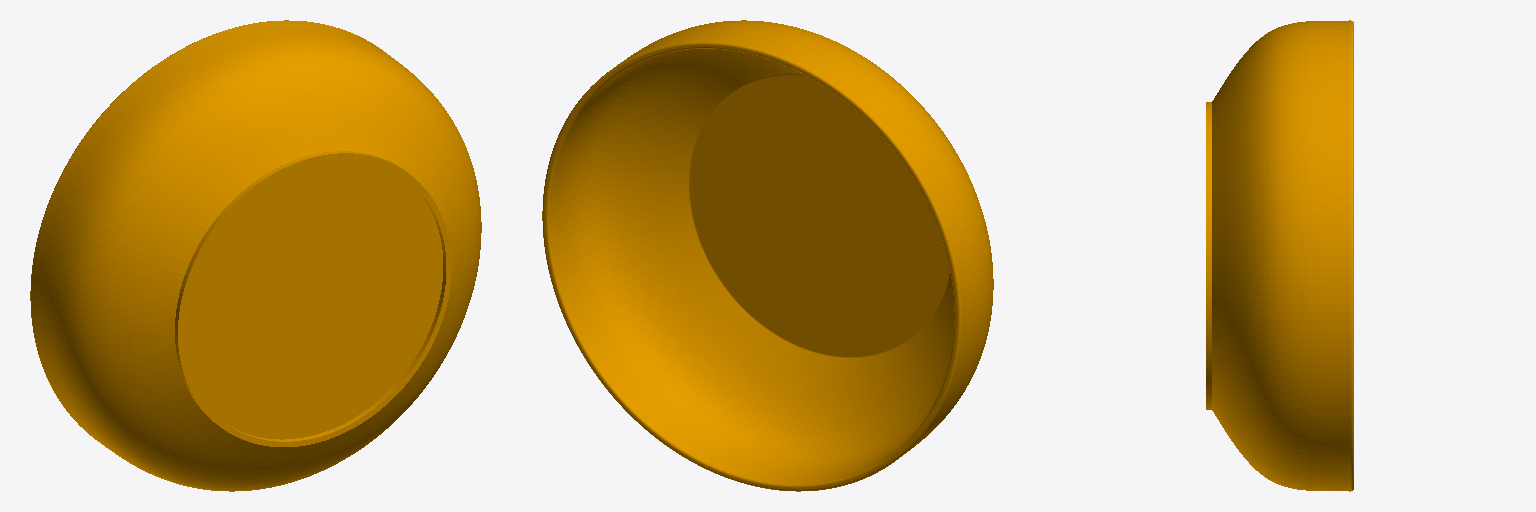
robot.urdf — cube:
<?xml version="1.0"?>
<robot name="cube">
  <!-- Frying pan model, Copyright (c) 2016 [author]       -->
  <!-- LICENSE: CC-SA                                         -->
  <link name="cube">
    <visual>
      <origin rpy="0 0 0" xyz="0 0 0"/>
      <geometry>
        <mesh filename="plate.obj"/>
      </geometry>
    </visual>

    <collision>  <!-- bottom -->
      <geometry>
        <cylinder radius="0.05" length="0.005"/>
      </geometry>
      <origin rpy="0 0 0" xyz="0 0 0.0025"/>
    </collision>

    <collision>
      <geometry>
        <mesh filename="plate-collision01.obj"/>
      </geometry>
      <origin rpy="0 0 0" xyz="0 0 0"/>
    </collision>

    <collision>
      <geometry>
        <mesh filename="plate-collision02.obj"/>
      </geometry>
      <origin rpy="0 0 0" xyz="0 0 0"/>
    </collision>

    <collision>
      <geometry>
        <mesh filename="plate-collision03.obj"/>
      </geometry>
      <origin rpy="0 0 0" xyz="0 0 0"/>
    </collision>

    <collision>
      <geometry>
        <mesh filename="plate-collision04.obj"/>
      </geometry>
      <origin rpy="0 0 0" xyz="0 0 0"/>
    </collision>

    <collision>
      <geometry>
        <mesh filename="plate-collision05.obj"/>
      </geometry>
      <origin rpy="0 0 0" xyz="0 0 0"/>
    </collision>

    <collision>
      <geometry>
        <mesh filename="plate-collision06.obj"/>
      </geometry>
      <origin rpy="0 0 0" xyz="0 0 0"/>
    </collision>

    <inertial>
      <mass value="0.5"/>  <!-- mr^2 = 0.5*0.12^2 = 0.0072 for Z axis, lighter along other axis -->
      <inertia ixx="0.005" iyy="0.005" izz="0.0072"/>
    </inertial>
  </link>

</robot>

--- Facts derived from the render (not from the file) ---
3 views of the same robot in one strip: view 1: azimuth 30°, elevation 25°; view 2: azimuth 150°, elevation 25°; view 3: azimuth 270°, elevation 25° (orthographic).
Robot: cube — 1 links, 0 joints (none); root link cube; default pose: every joint at zero.
Links seen in each view (by area): view 1: cube; view 2: cube; view 3: cube.
Link boxes in pixels (x1=…): cube: x1=30, y1=20, x2=481, y2=491; cube: x1=542, y1=20, x2=993, y2=491; cube: x1=1206, y1=20, x2=1353, y2=491.
Size in the robot's own frame: 318 by 100 by 318 metres.
1 mesh visuals loaded from 1 distinct referenced files (1 OBJ).